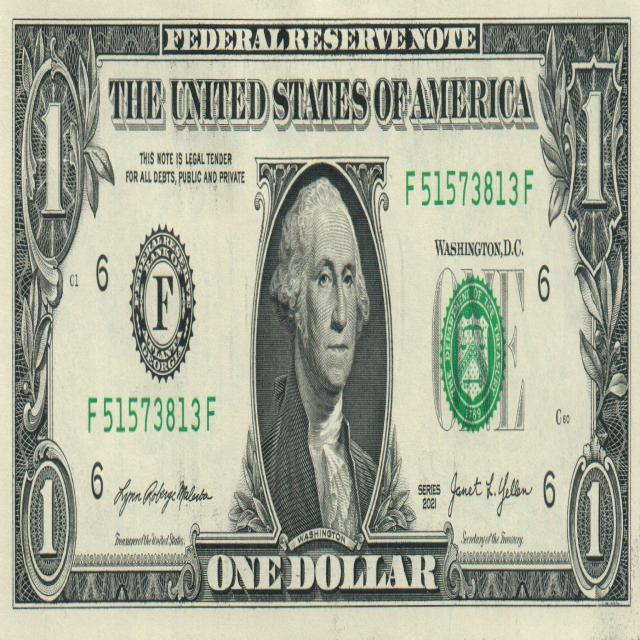SerialNumber: (88, 396, 215, 433), (406, 170, 533, 206)
